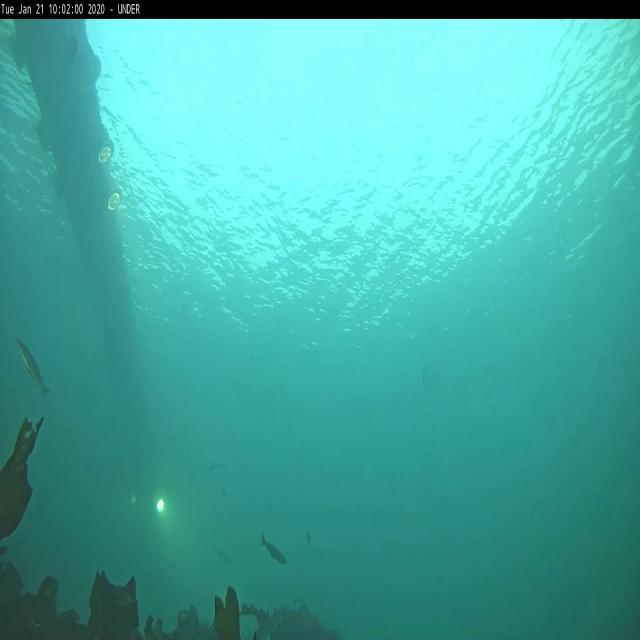fish: (15, 338, 50, 401), (260, 531, 288, 566)
